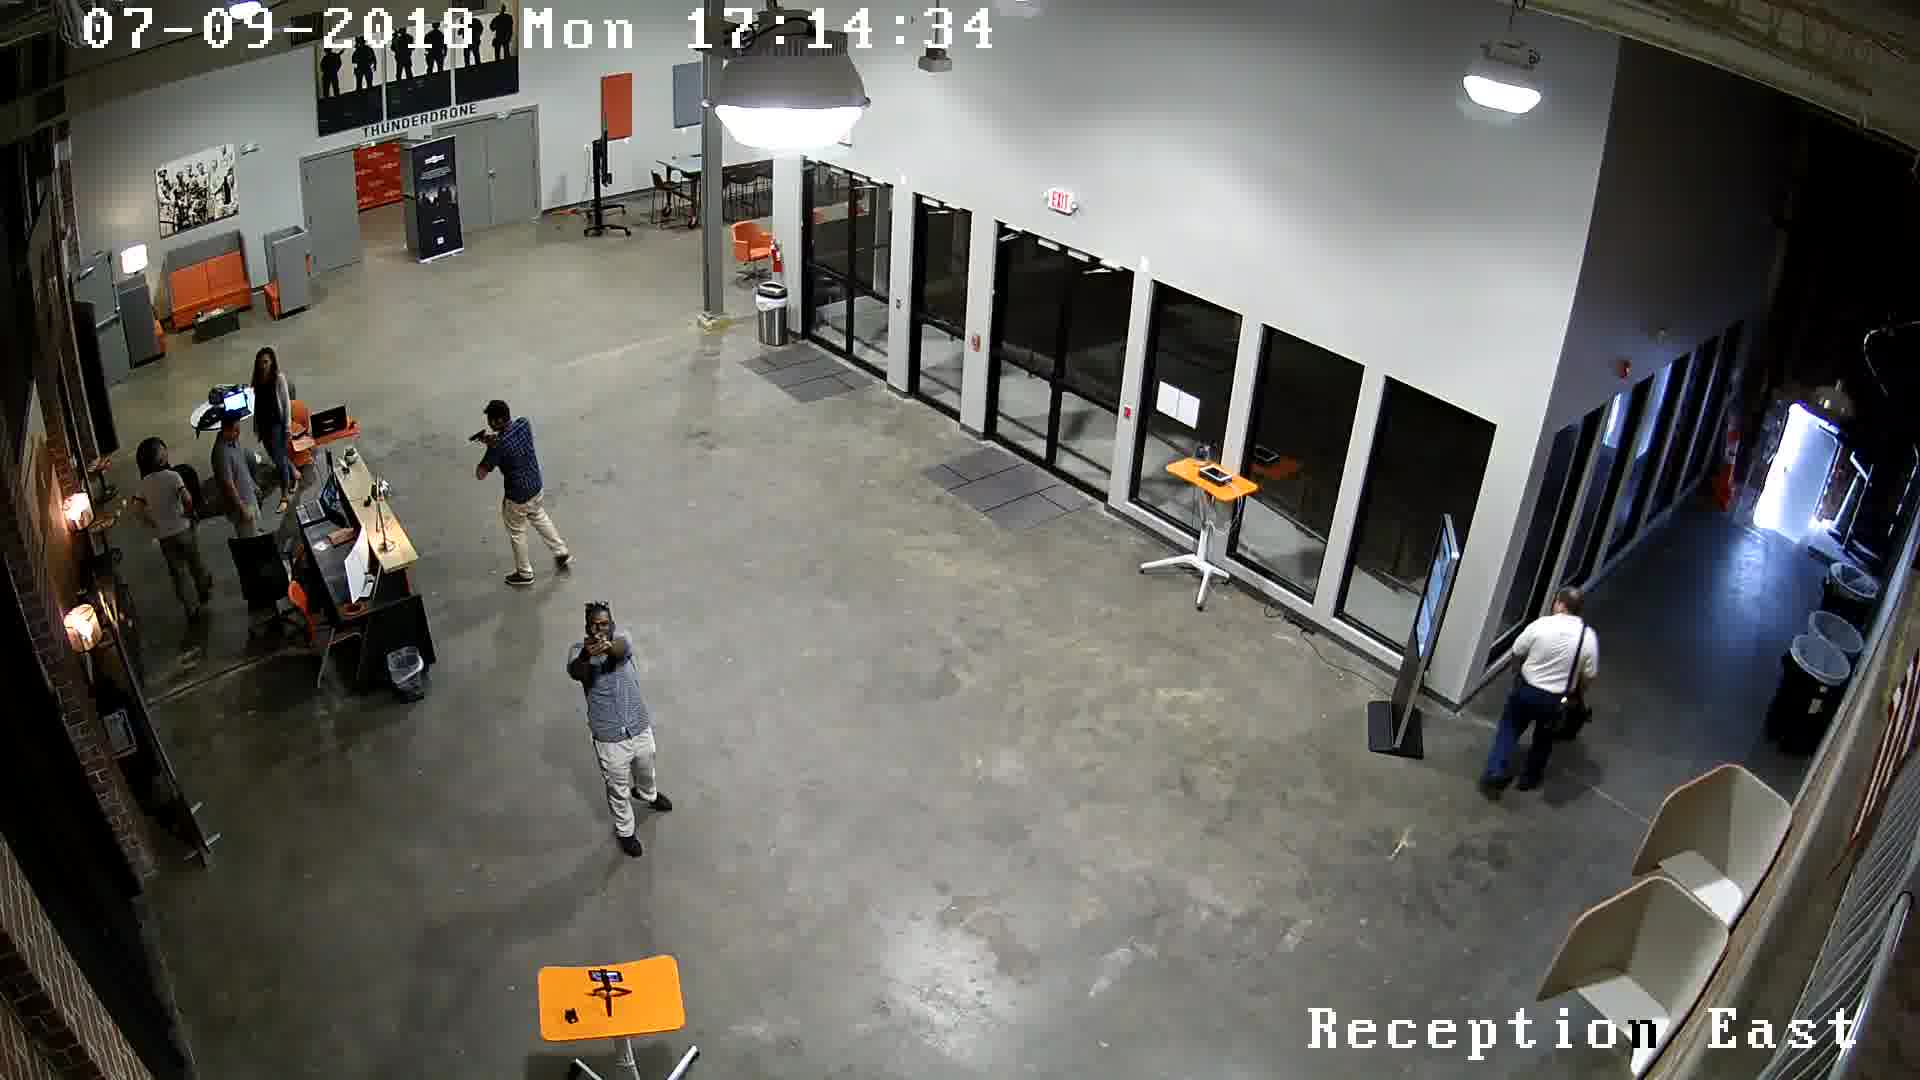pistol: (455, 421, 485, 454), (582, 632, 612, 663)
